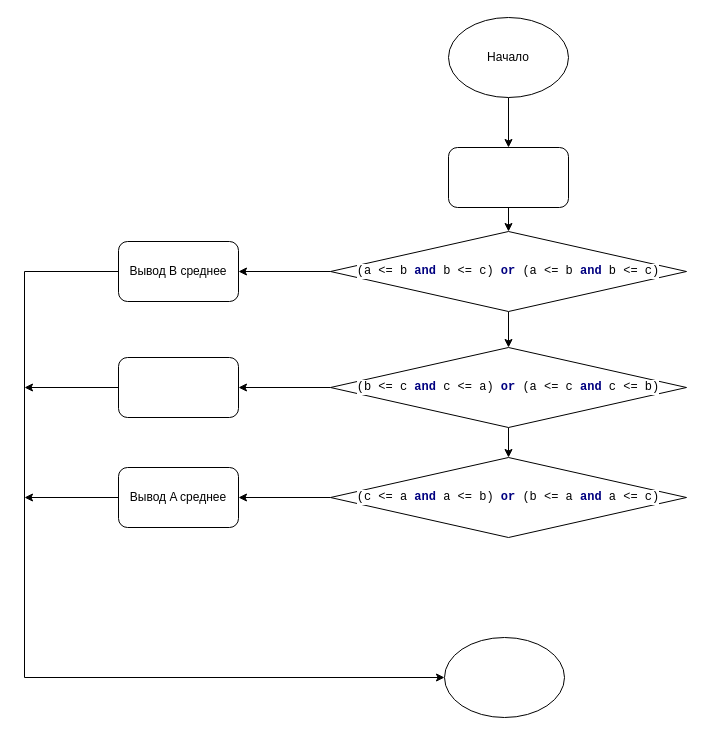
Some shapes in this 704 by 735 pixel diagram are drawn without their labels. The centre of each missing label's shape, as x and y in pixels:
"Вывод С среднее" belongs at [178,387].
"Конец" belongs at [504,677].
"Получить данные от пользователя 3 числа A,B,C" belongs at [508,177].
